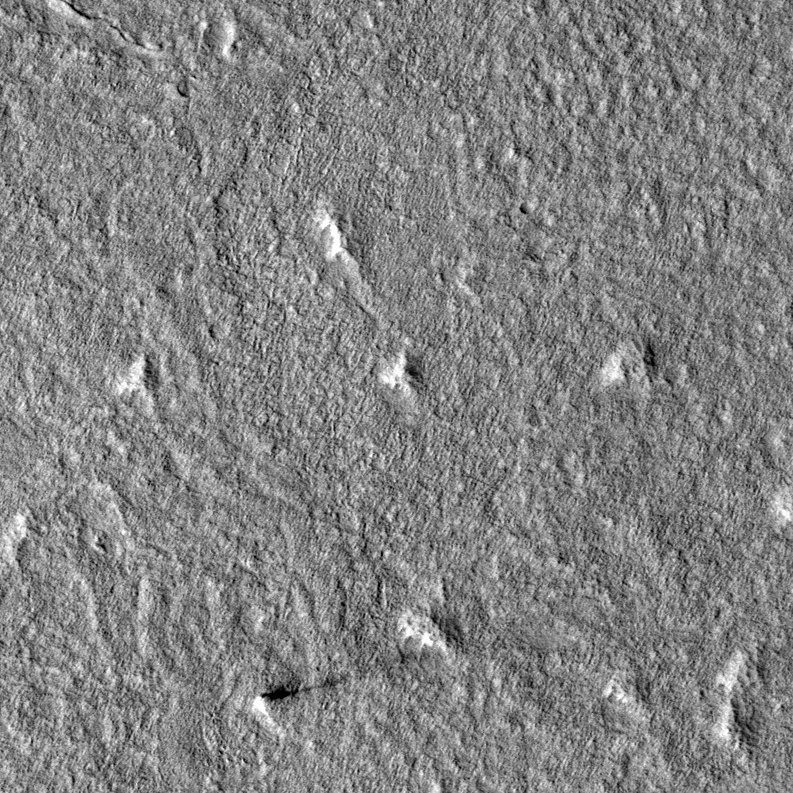dust_devil: (251, 674, 345, 737)
